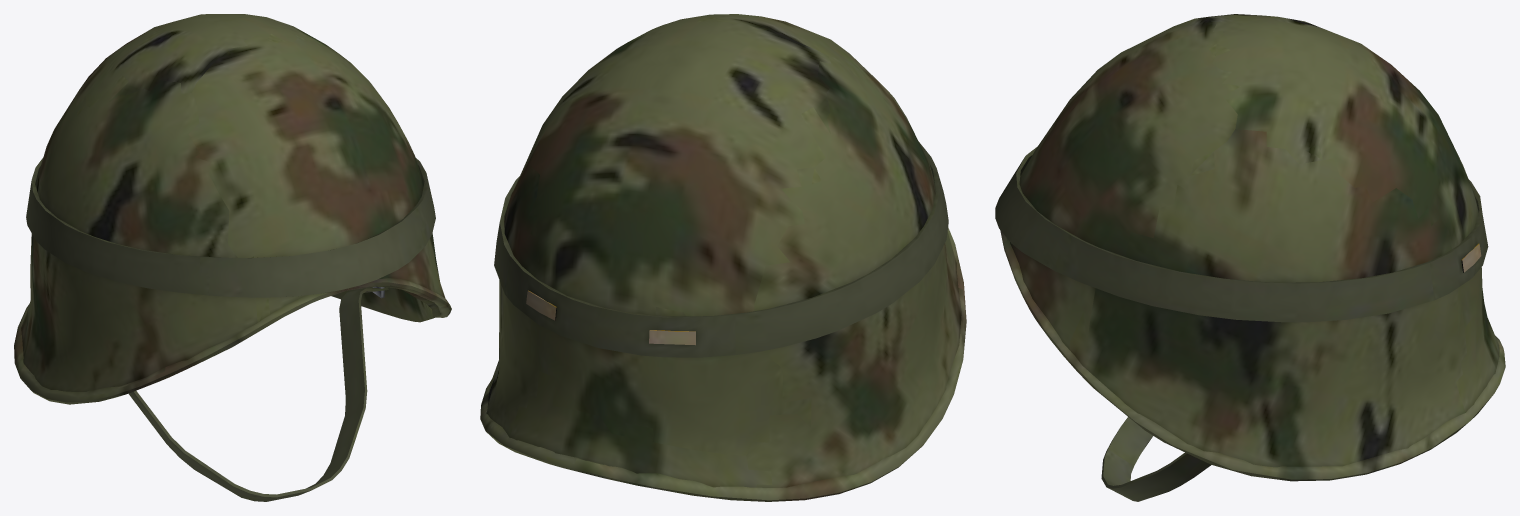
File: helmet_2_lod1.glb
3 views of the same model, side by side, from view 1: azimuth 30°, elevation 25°; view 2: azimuth 150°, elevation 25°; view 3: azimuth 270°, elevation 25° (orthographic). The views are drawn at different scales.
Parts seen in each view (by area): view 1: body; view 2: body; view 3: body.
Boxes of the visible parts, x1,y1,x2,y2 form: body: (14,14,451,501); body: (480,14,966,501); body: (995,14,1505,501).
Bounding box in the file's own units: 0.2598 × 0.2892 × 0.2918.
1 material, 1 textured.
